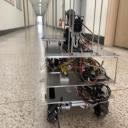cart: (44, 44, 121, 124)
